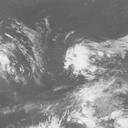cyclone: (63, 41, 99, 78)
